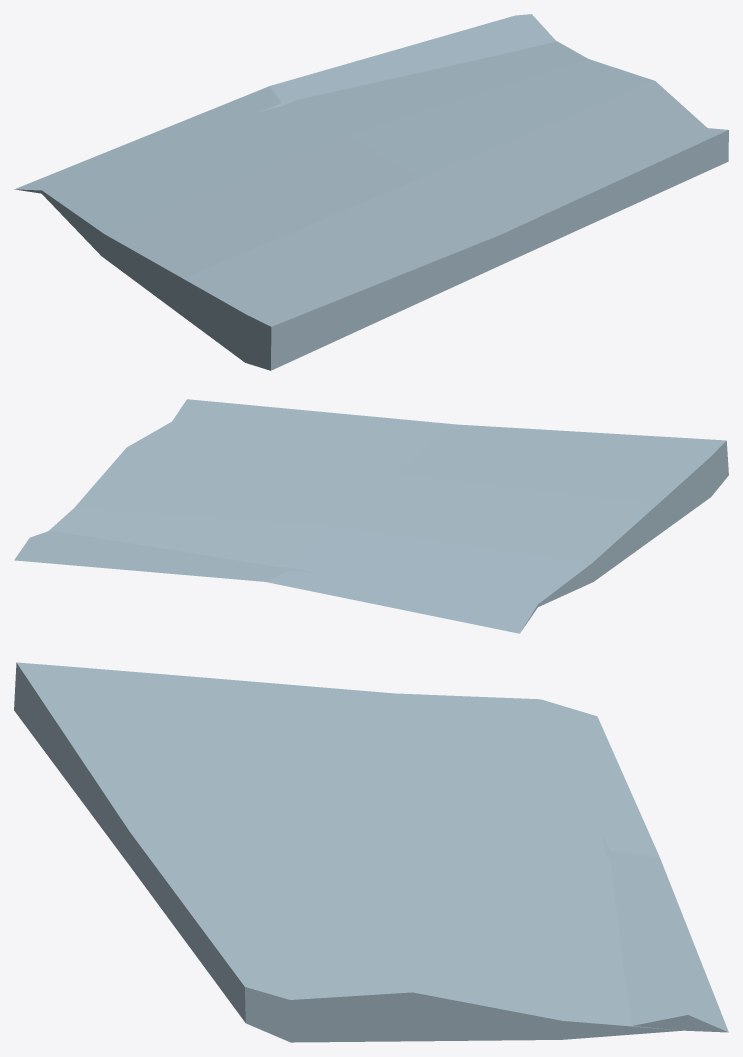
Rendered from su33d_flap_inner_left.glb.
3 views of the same model, one above another, from view 1: azimuth 30°, elevation 25°; view 2: azimuth 150°, elevation 25°; view 3: azimuth 270°, elevation 25° (orthographic). The views are drawn at different scales.
Visible parts, largest first — view 1: 0_FlapInnerLeft; view 2: 0_FlapInnerLeft; view 3: 0_FlapInnerLeft.
Part boxes in pixels (<box>): 0_FlapInnerLeft: <box>14,14,728,370</box>; 0_FlapInnerLeft: <box>14,399,728,633</box>; 0_FlapInnerLeft: <box>14,662,728,1042</box>.
Bounding box in the file's own units: 1.33 × 0.1404 × 1.28.
